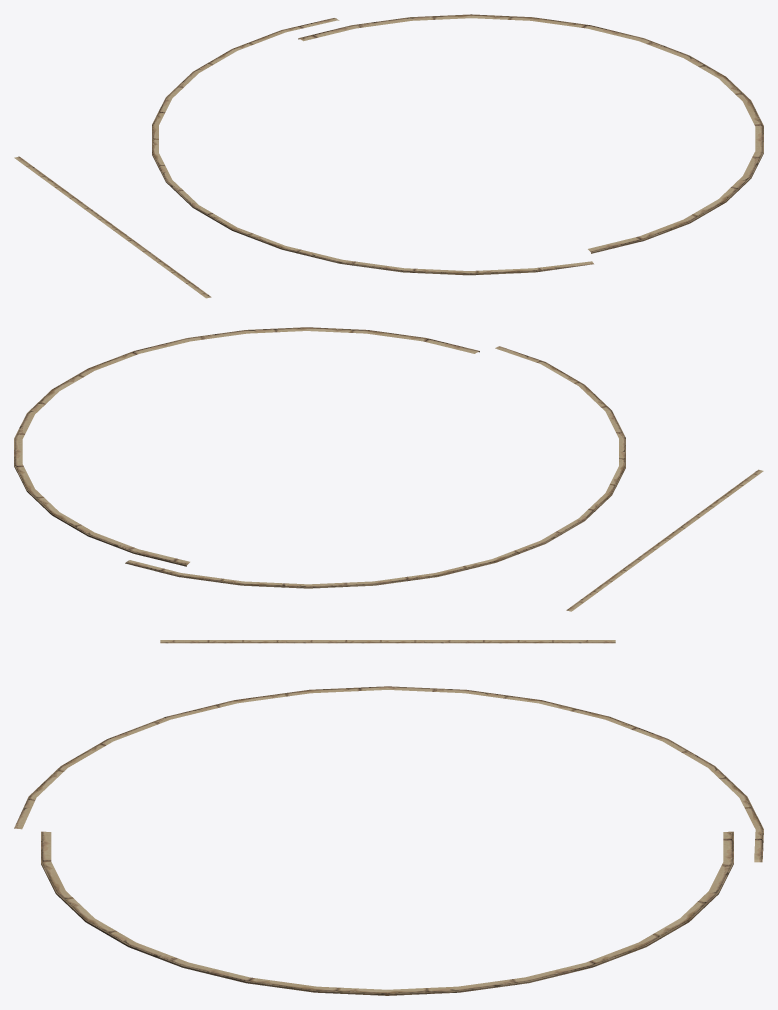
File: Ground13_Build_LostTemple_002.FBX
3 renders of one model, top to bottom at view 1: azimuth 30°, elevation 25°; view 2: azimuth 150°, elevation 25°; view 3: azimuth 270°, elevation 25°, orthographic. The views are drawn at different scales.
Parts seen in each view (by area): view 1: Ground13_Build_LostTemple_002; view 2: Ground13_Build_LostTemple_002; view 3: Ground13_Build_LostTemple_002.
Boxes of the visible parts, <box> form: Ground13_Build_LostTemple_002: <box>14,14,763,298</box>; Ground13_Build_LostTemple_002: <box>14,327,763,611</box>; Ground13_Build_LostTemple_002: <box>14,640,763,995</box>.
Size of the model in its own units: 3968 by 9.15 by 3535.
Materials: 1 (1 with a texture image).
